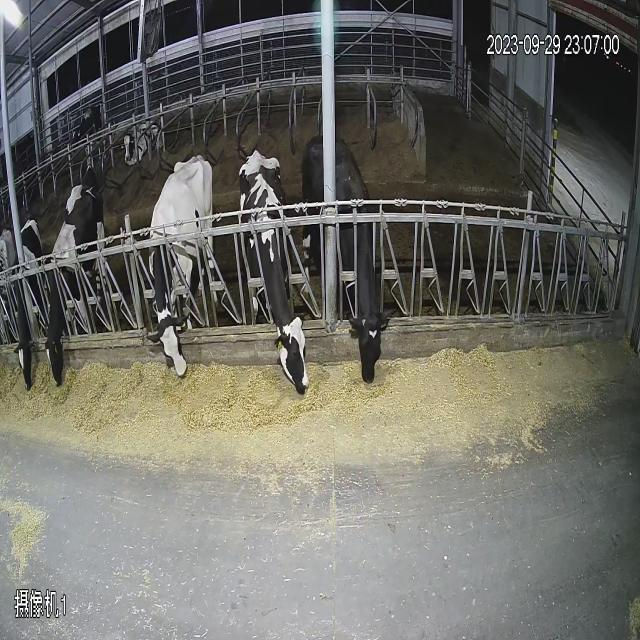feeding: (308, 130, 426, 412), (236, 143, 312, 448), (146, 138, 223, 410), (44, 162, 112, 408), (11, 196, 38, 402)
